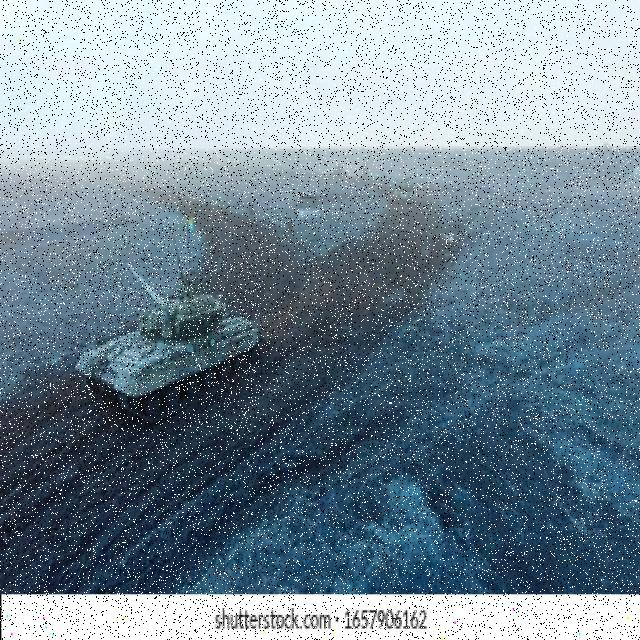MIL_MBT: (75, 262, 261, 428)
